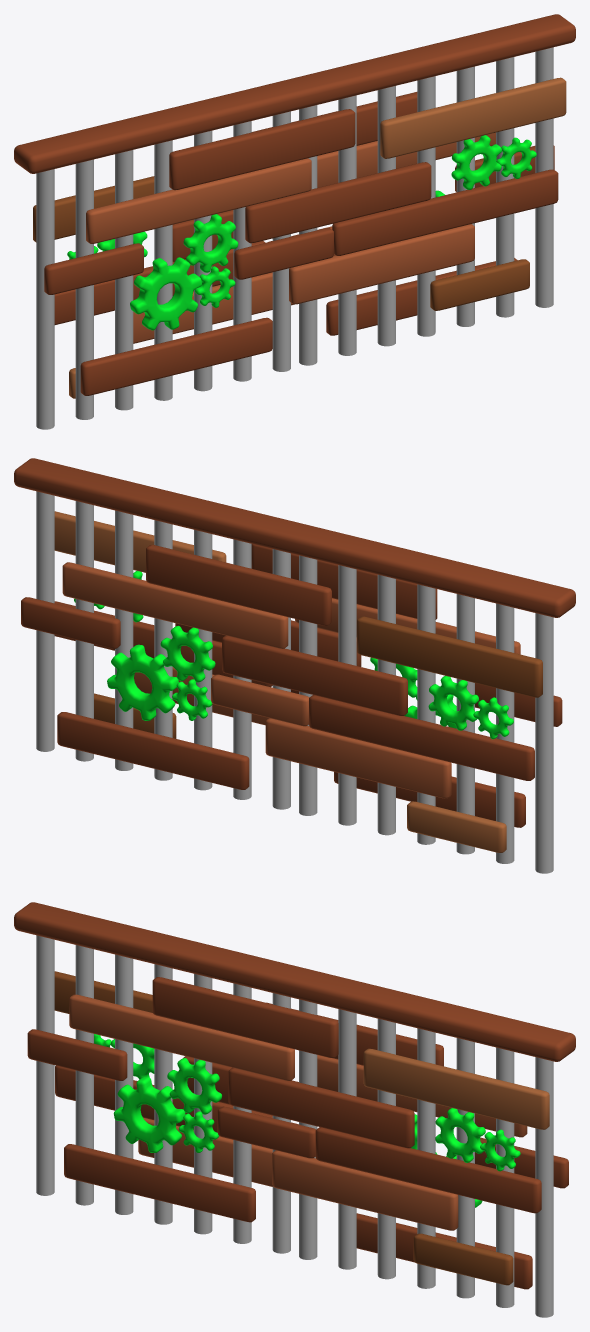
Rendered from Portail coulissant.fbx.
3 views of the same model, one above another, from view 1: azimuth 30°, elevation 25°; view 2: azimuth 150°, elevation 25°; view 3: azimuth 330°, elevation 25° (orthographic).
Visible parts, largest first — view 1: planche 2.008; view 2: planche 2.008; view 3: planche 2.008.
Part boxes in pixels (x1,y1,x2,y2): planche 2.008: (14,14,575,429); planche 2.008: (14,458,575,873); planche 2.008: (14,902,575,1317).
Bounding box in the file's own units: 417 × 204 × 30.2.
